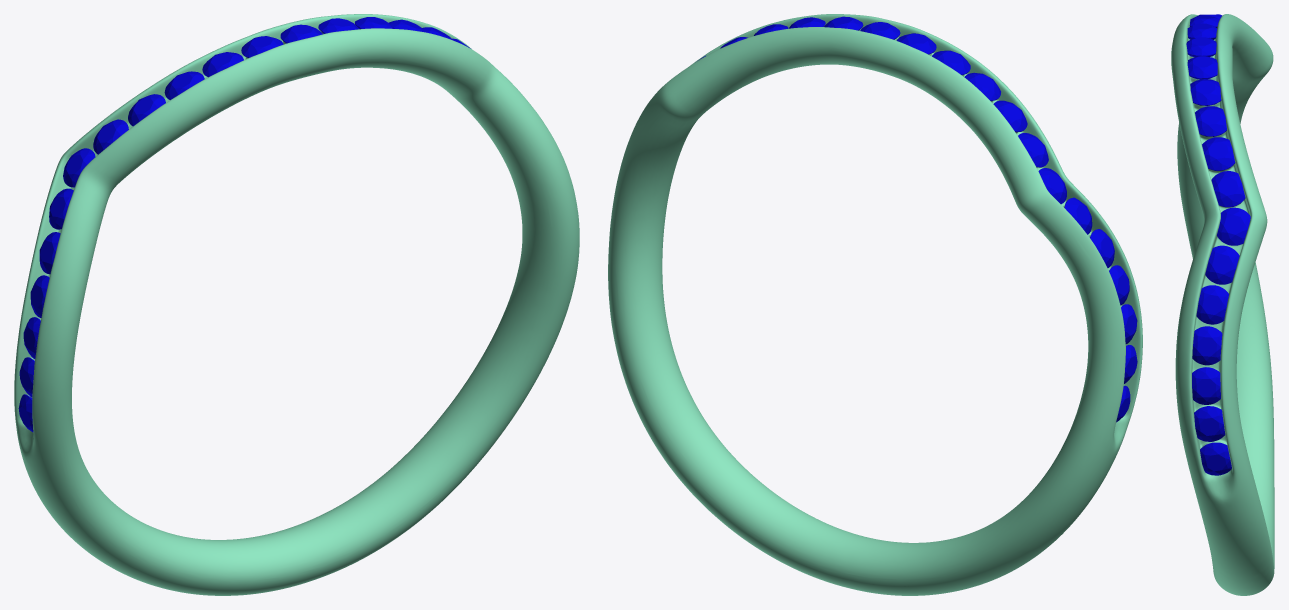
3 renders of one model, left to right at view 1: azimuth 30°, elevation 25°; view 2: azimuth 150°, elevation 25°; view 3: azimuth 270°, elevation 25°, orthographic. The views are drawn at different scales.
Visible parts, largest first — view 1: Metal03; view 2: Metal03; view 3: Metal03, Diamond_Band.017, Diamond_Band.016, Diamond_Band.018, Diamond_Band.024, Diamond_Band.019, Diamond_Band.015, Diamond_Band.020, Diamond_Band.014, Diamond_Band.021, Diamond_Band.013, Diamond_Band.012 (+4 smaller).
Boxes of the visible parts, <box> form: Metal03: <box>14,14,579,595</box>; Metal03: <box>608,14,1142,595</box>; Metal03: <box>1171,14,1274,595</box>; Diamond_Band.017: <box>1196,285,1228,324</box>; Diamond_Band.016: <box>1205,245,1239,284</box>; Diamond_Band.018: <box>1192,326,1222,365</box>; Diamond_Band.024: <box>1217,207,1250,245</box>; Diamond_Band.019: <box>1192,367,1220,404</box>; Diamond_Band.015: <box>1211,171,1245,207</box>; Diamond_Band.020: <box>1194,406,1225,441</box>; Diamond_Band.014: <box>1202,137,1235,170</box>; Diamond_Band.021: <box>1200,442,1231,475</box>; Diamond_Band.013: <box>1195,106,1226,136</box>; Diamond_Band.012: <box>1190,79,1221,105</box>.
Bounding box in the file's own units: 20.54 × 20.67 × 3.68.
